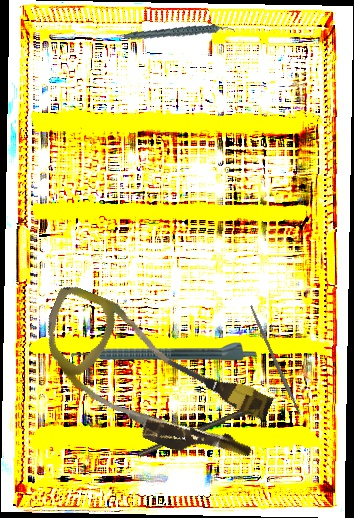Cannula: (20, 281, 285, 478)
Handpiece: (123, 10, 236, 57), (71, 340, 256, 361)
Hook Surgical: (137, 396, 278, 458)
Scalpel Handle: (248, 304, 302, 417)
